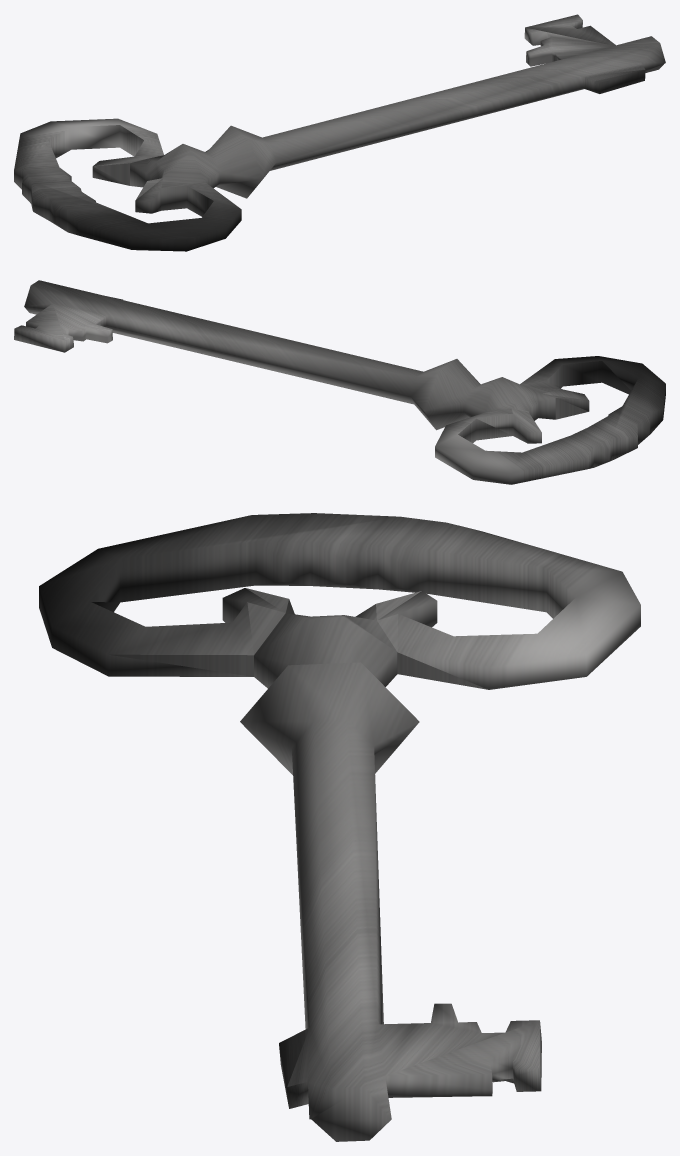
Rendered from key.FBX.
3 views of the same model, one above another, from view 1: azimuth 30°, elevation 25°; view 2: azimuth 150°, elevation 25°; view 3: azimuth 270°, elevation 25° (orthographic). The views are drawn at different scales.
Parts seen in each view (by area): view 1: key2; view 2: key2; view 3: key2.
Boxes of the visible parts, <box> form: key2: <box>14,14,665,251</box>; key2: <box>14,280,665,484</box>; key2: <box>39,513,640,1141</box>.
Bounding box in the file's own units: 90.55 × 8.52 × 39.17.
1 material, 1 textured.
